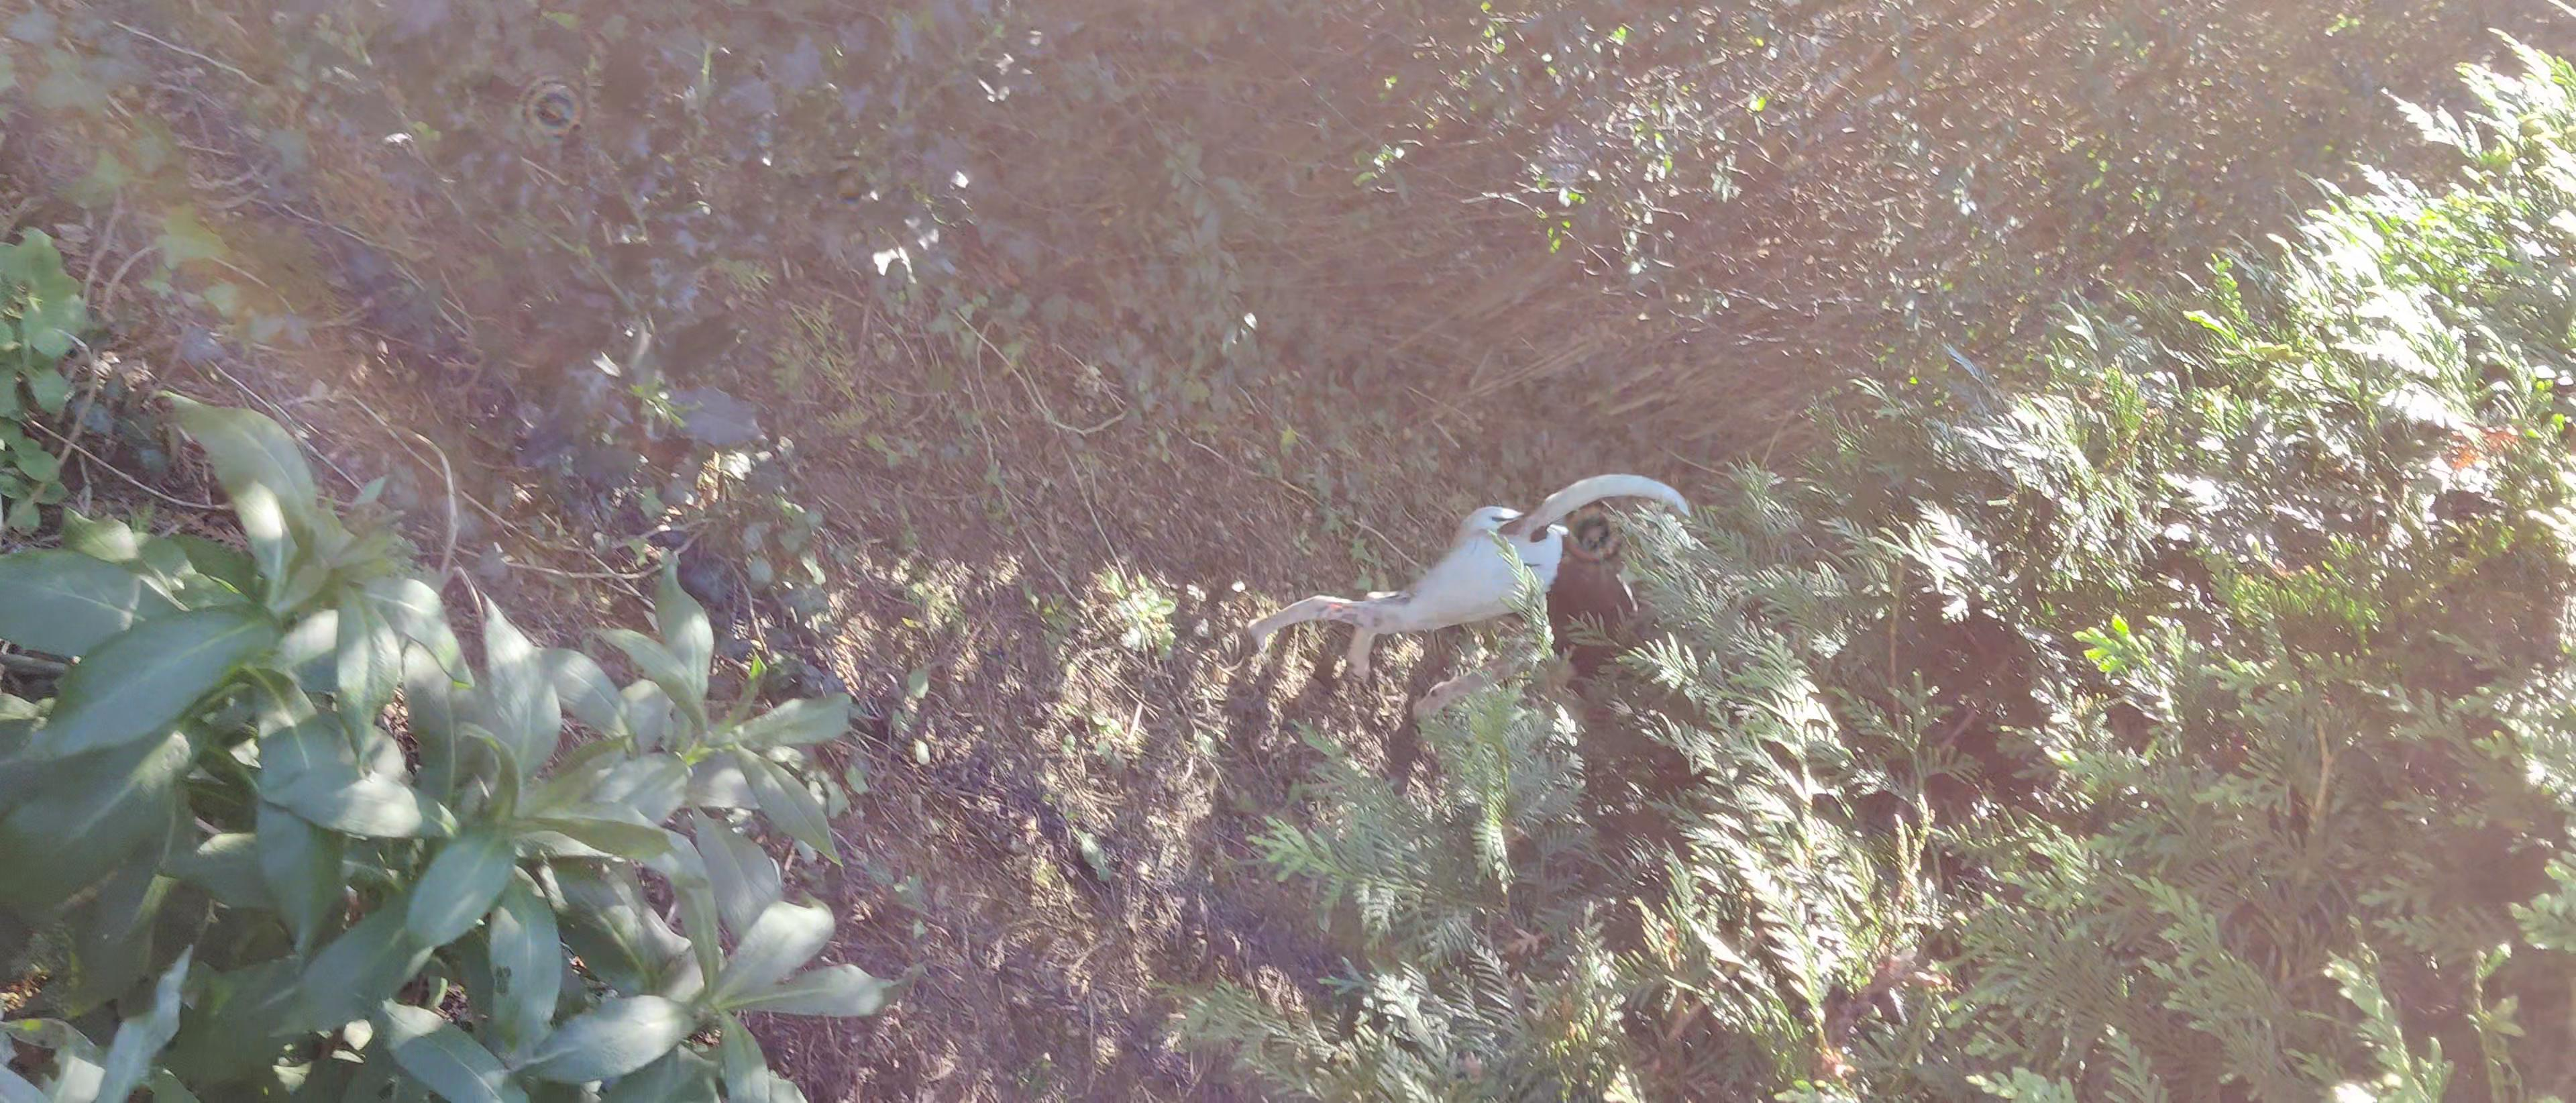Dog: (1240, 470, 1690, 725)
